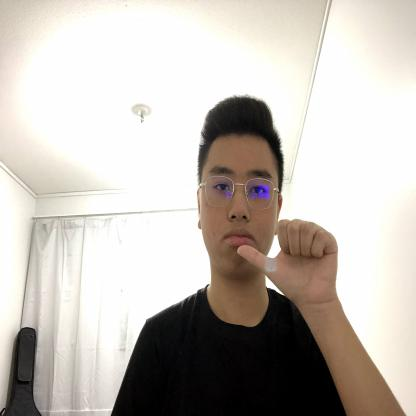right: (236, 218, 340, 310)
